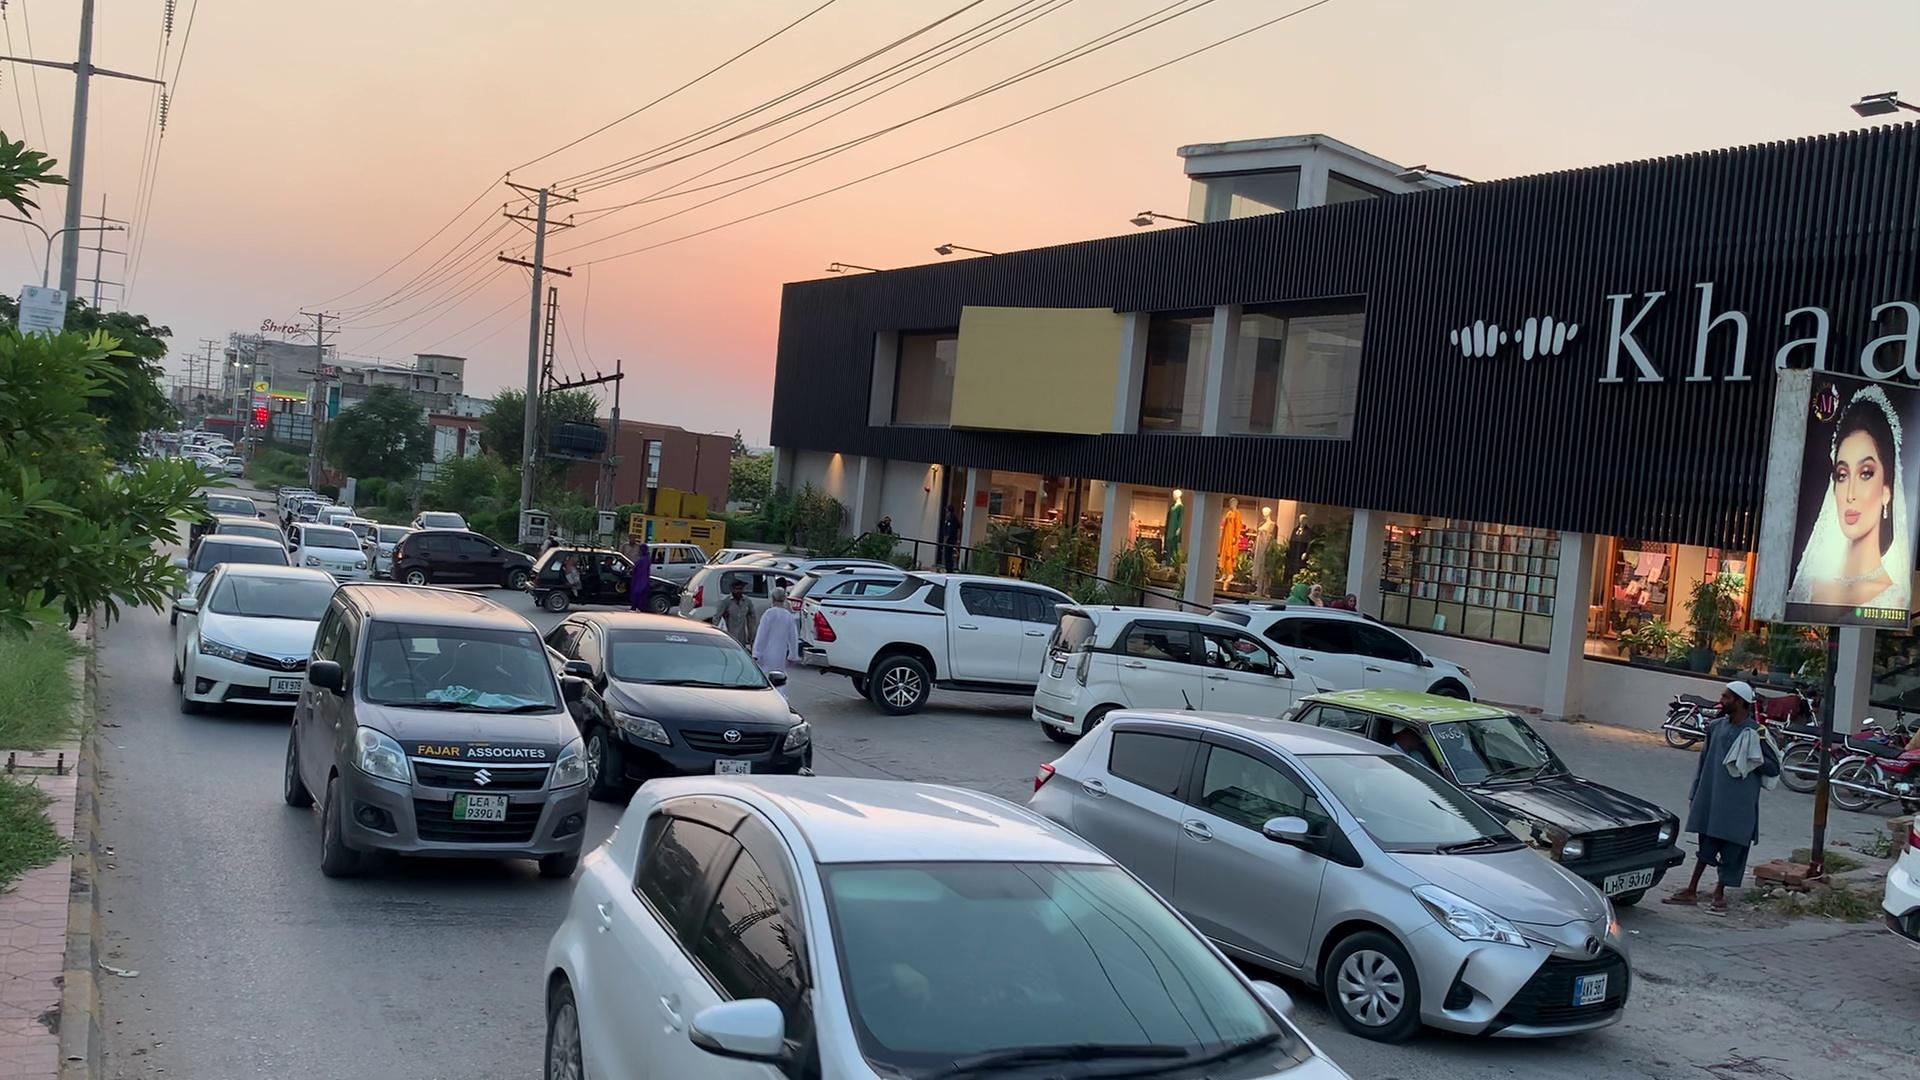windshield: (361, 607, 560, 715), (604, 620, 775, 696)
